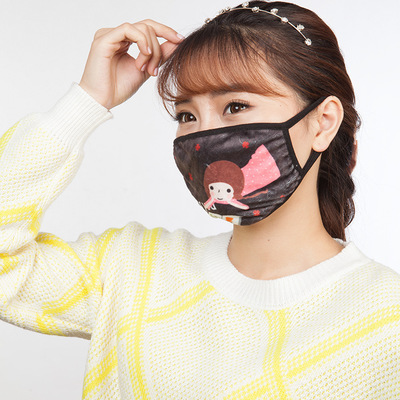face_mask: (174, 46, 309, 223)
